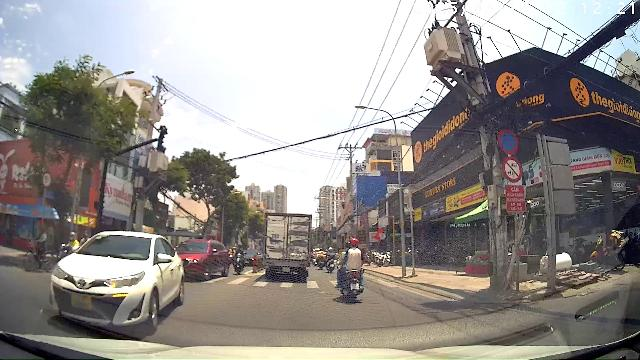131a-cam-do-xe: (498, 128, 518, 155)
